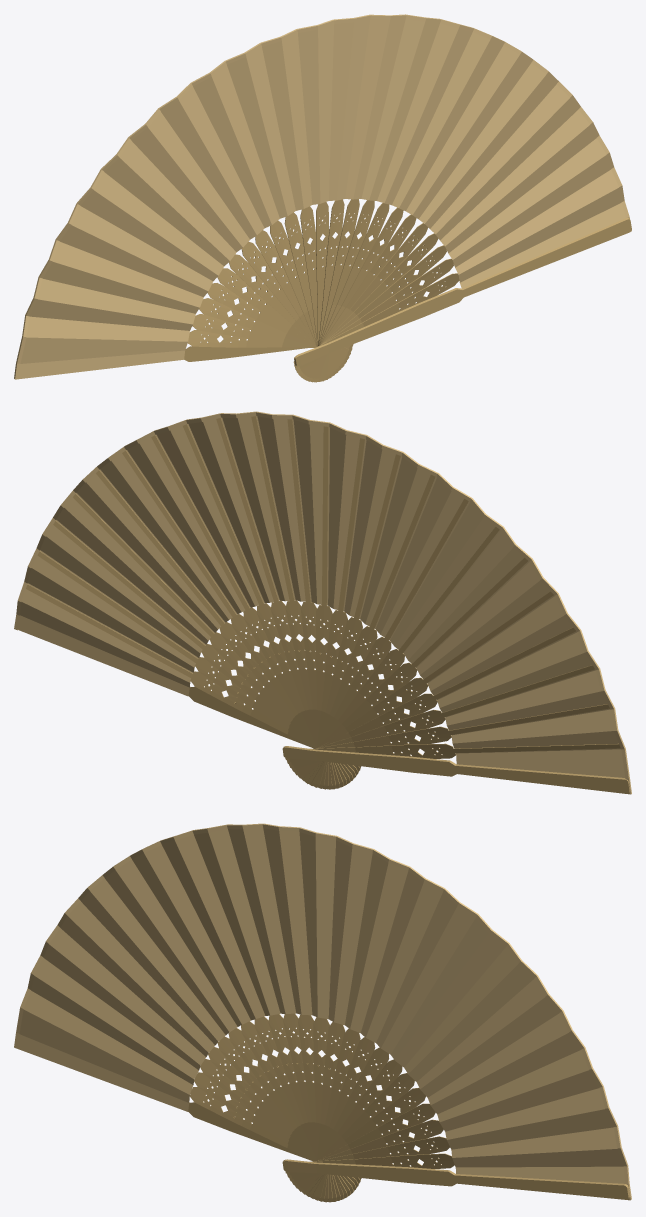
The model's file is HandFan.fbx.
3 views of the same model, one above another, from view 1: azimuth 30°, elevation 25°; view 2: azimuth 150°, elevation 25°; view 3: azimuth 330°, elevation 25° (orthographic). The views are drawn at different scales.
Visible parts, largest first — view 1: HandFan; view 2: HandFan; view 3: HandFan.
Boxes of the visible parts, <box> form: HandFan: <box>14,14,631,382</box>; HandFan: <box>14,411,631,794</box>; HandFan: <box>14,823,631,1202</box>.
Bounding box in the file's own units: 25.69 × 0.873 × 14.41.
